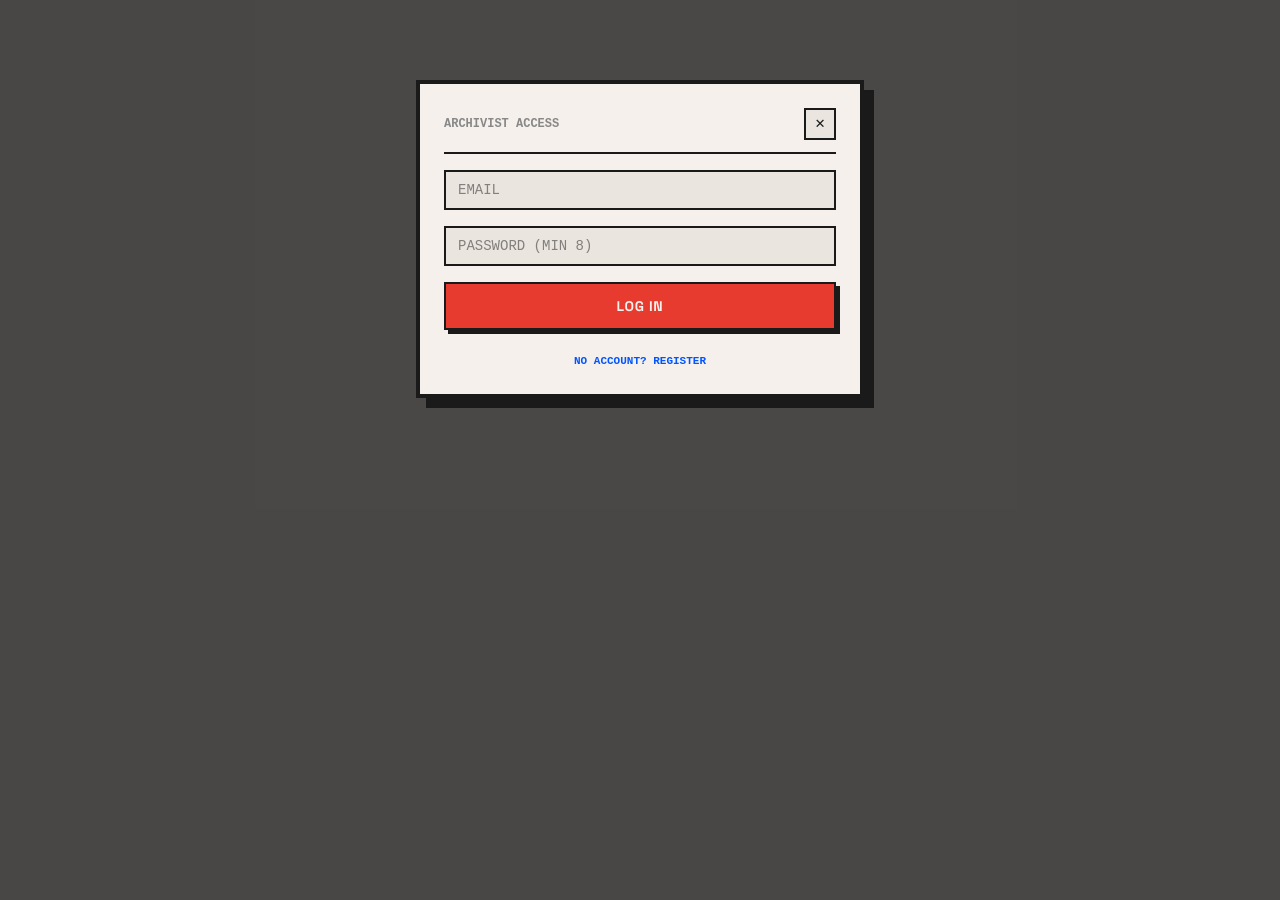
Test: AuthModal › shows network errors
The width and height of the screenshot is (1280, 900).
In the field with placeholder "EMAIL": (640, 190) [444,170,836,210], type "a@b.c"
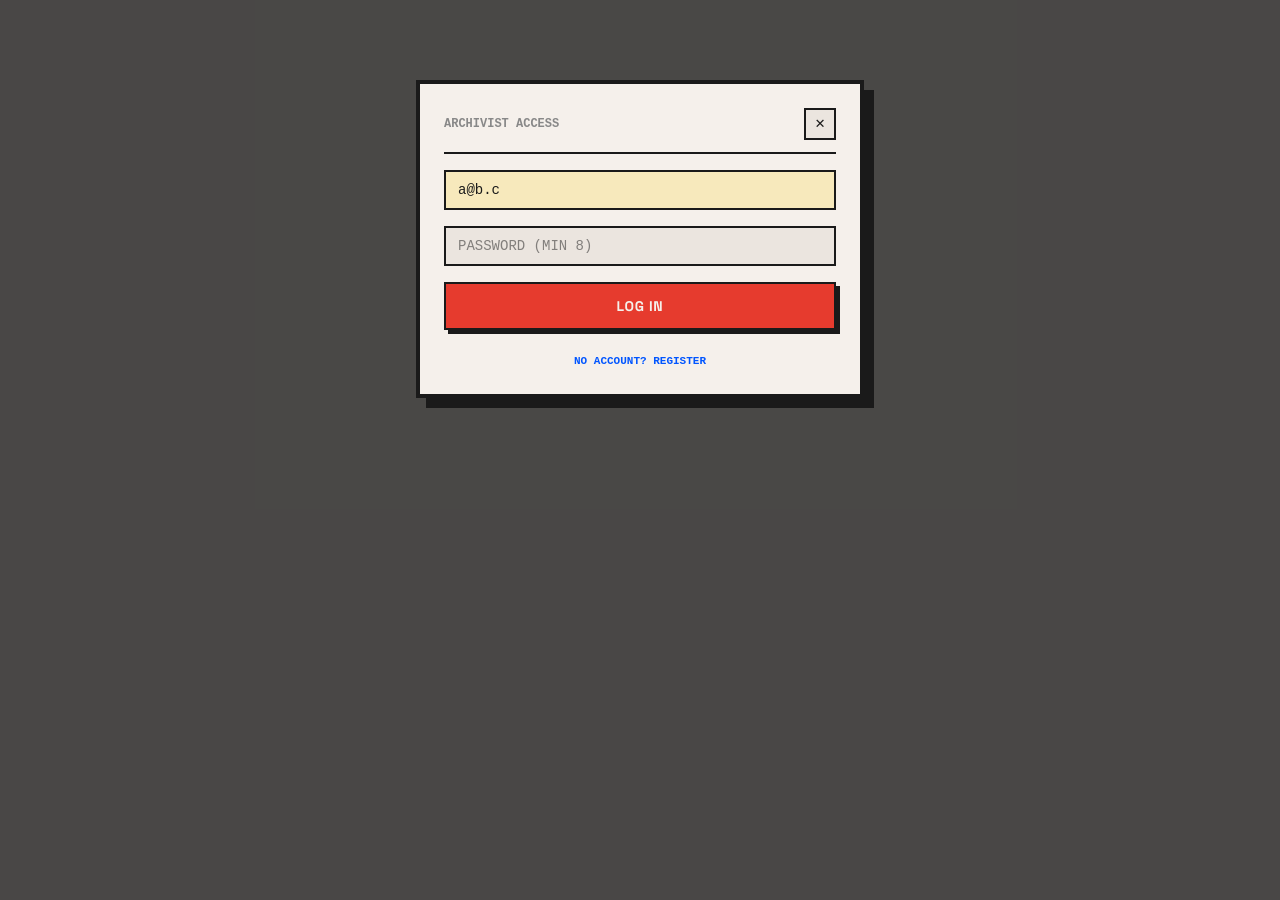
In the password field with placeholder "PASSWORD (MIN 8)": (640, 246) [444,226,836,266], type "password123"
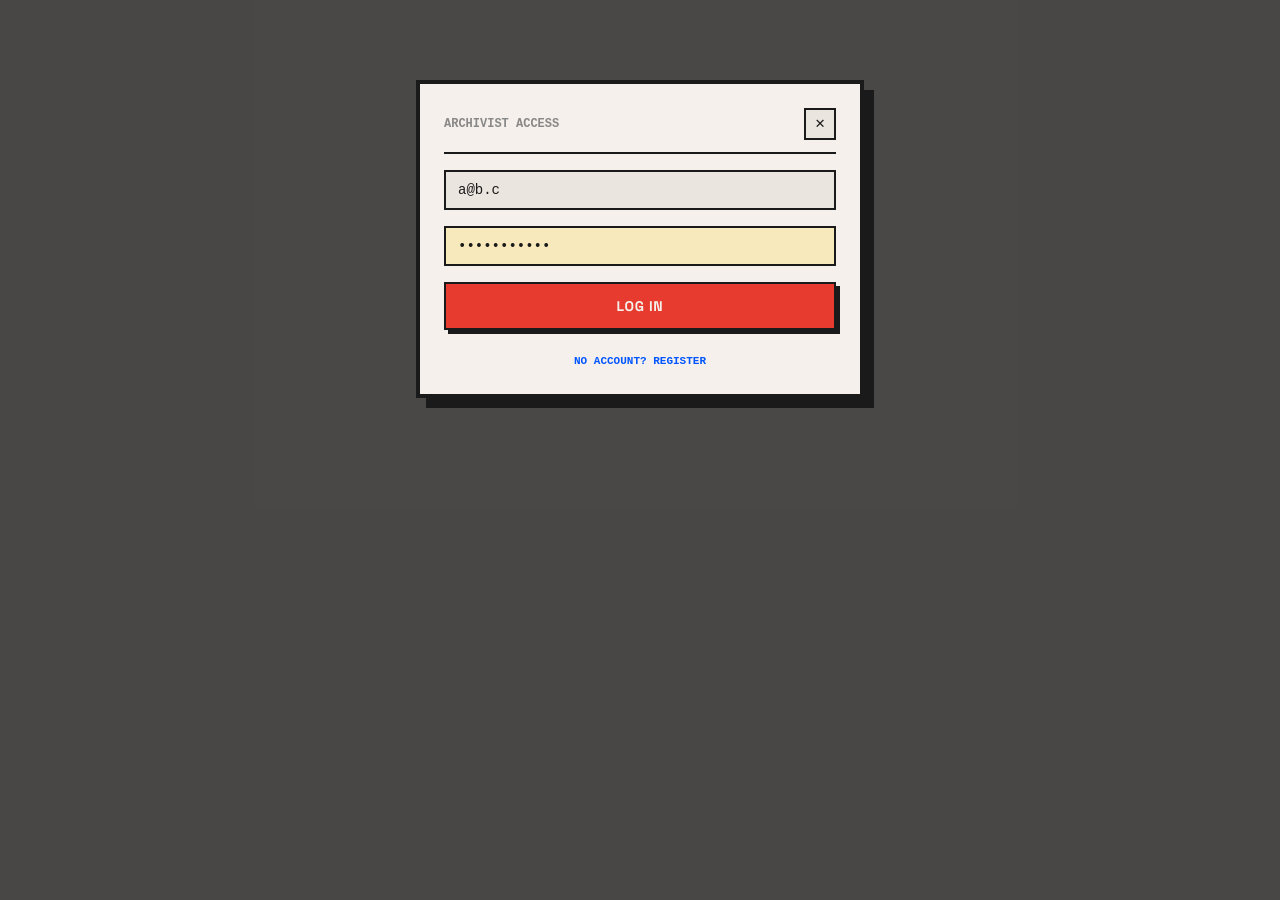
Click the button "LOG IN": (640, 306) [444,282,836,330]
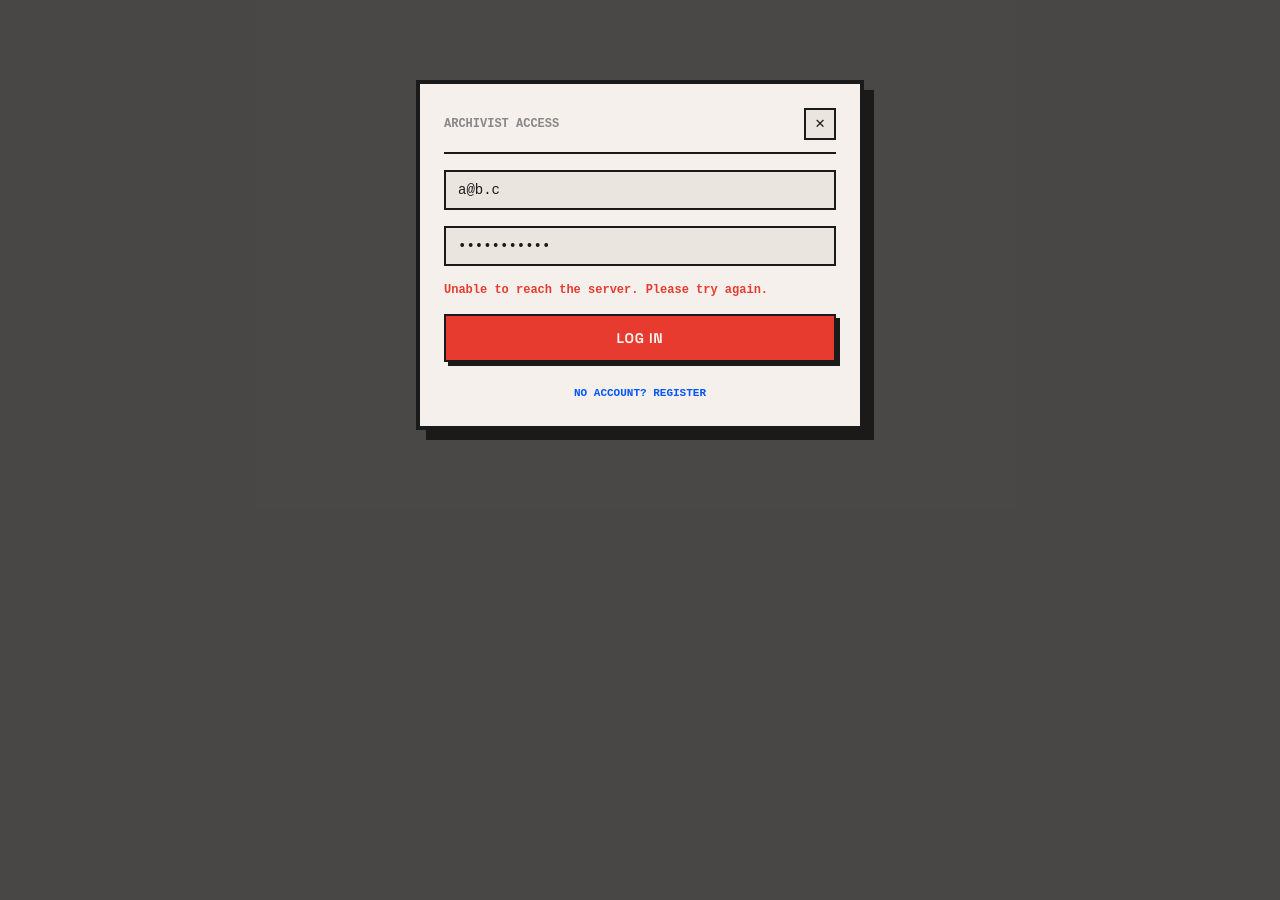
Result: the text "Unable to reach the server. Please try again." is shown at [444,283,768,297]
